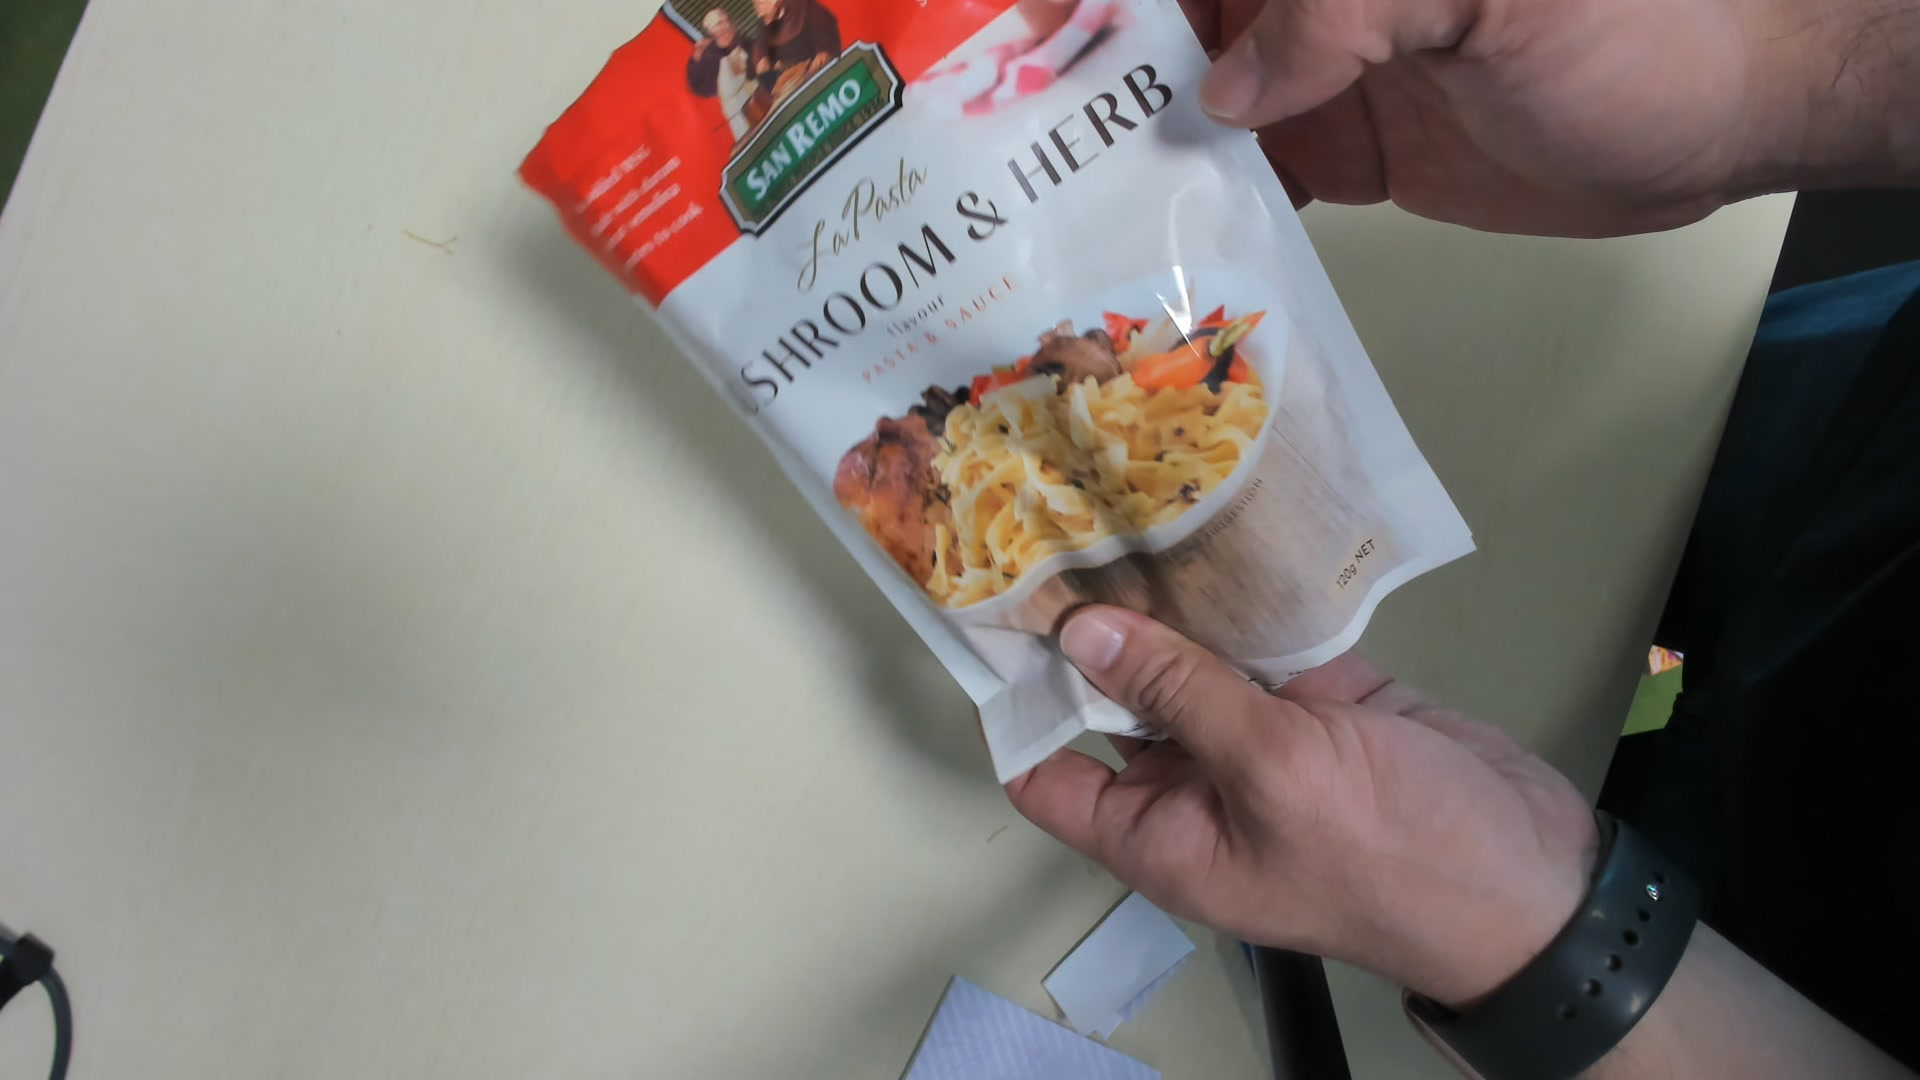InstantMeals_100-199g_NonHalal_Healthy: (521, 8, 1480, 775)
